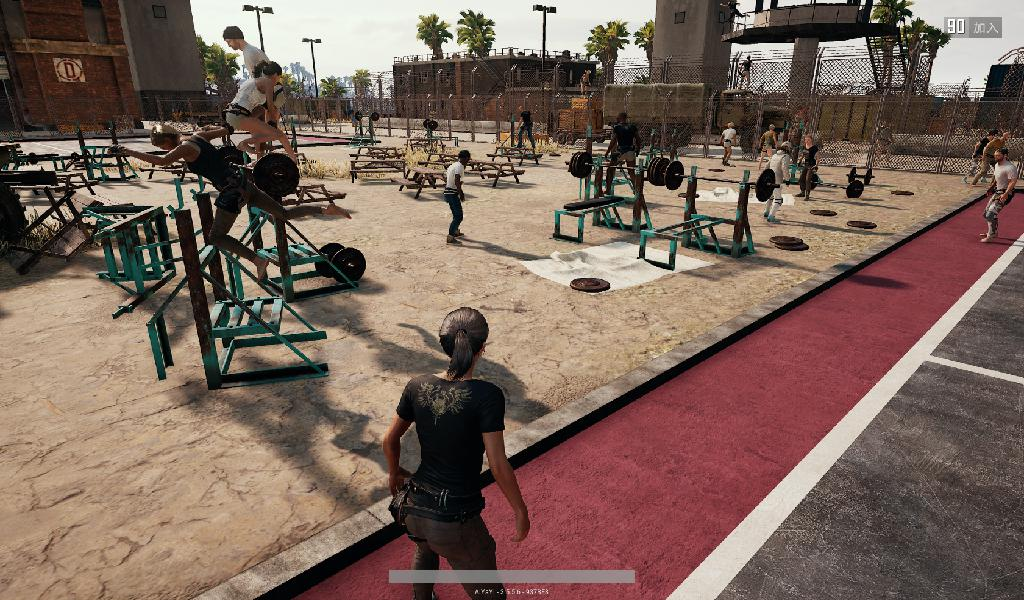Target Person: (381, 307, 531, 600), (108, 122, 352, 282), (221, 25, 282, 173), (222, 61, 300, 163), (981, 148, 1017, 246), (440, 150, 472, 249), (604, 111, 640, 199), (763, 141, 792, 221), (796, 136, 819, 202), (871, 119, 894, 171), (515, 104, 536, 153), (717, 119, 736, 167), (758, 123, 778, 168), (738, 54, 754, 92)
